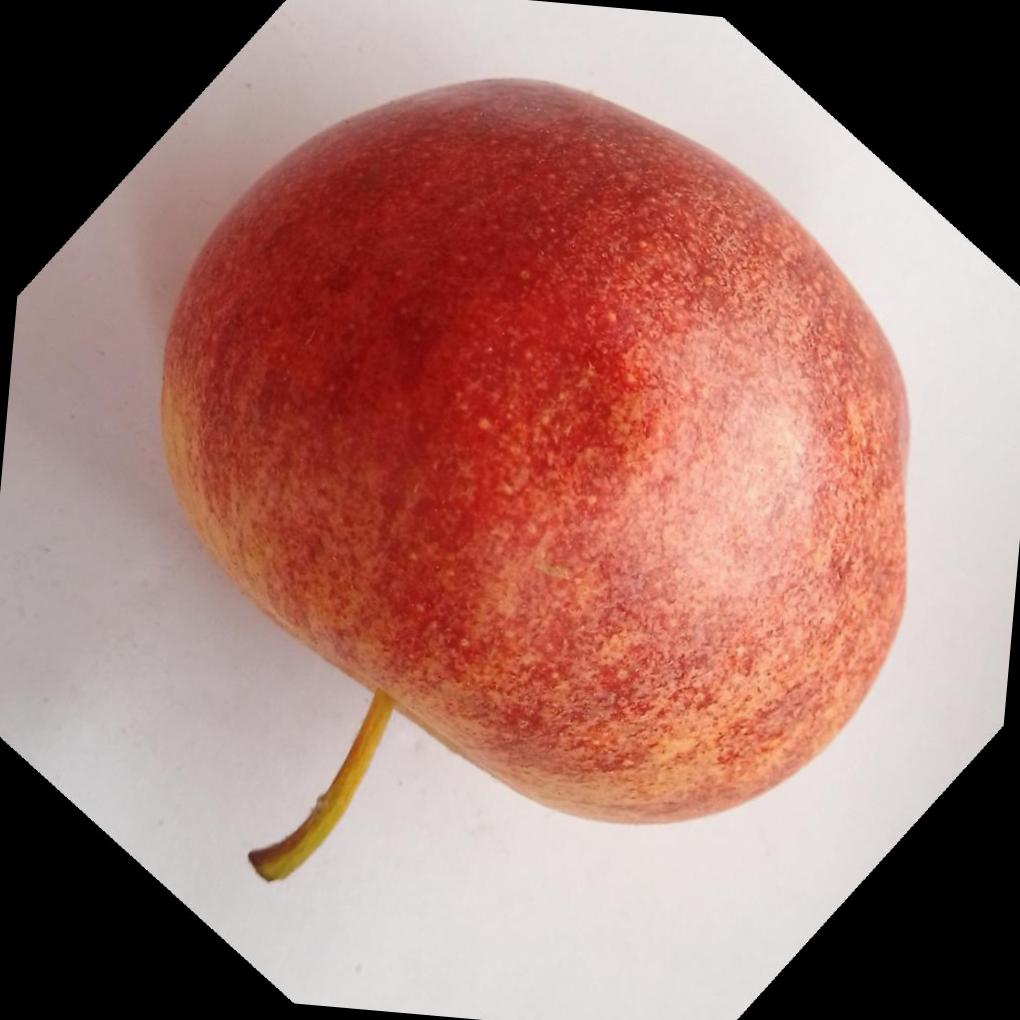FreshGuava: (155, 79, 912, 832)
